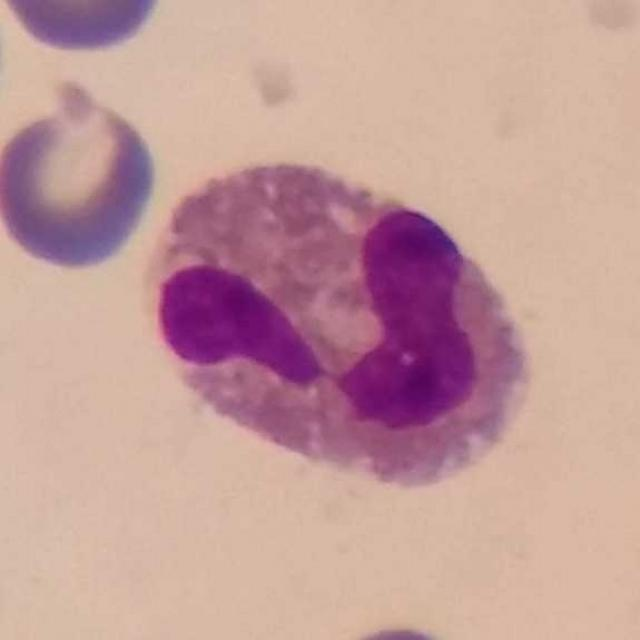eosino: (147, 157, 531, 492)
